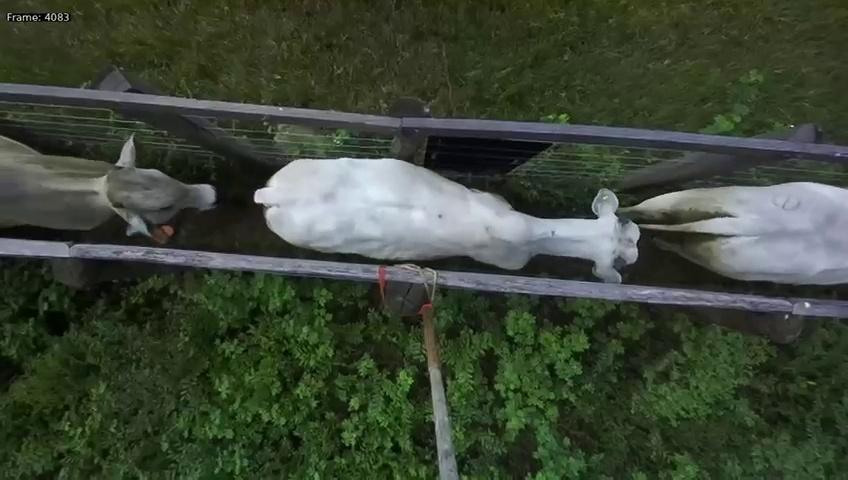cattle: (245, 143, 648, 291), (0, 120, 227, 244)
